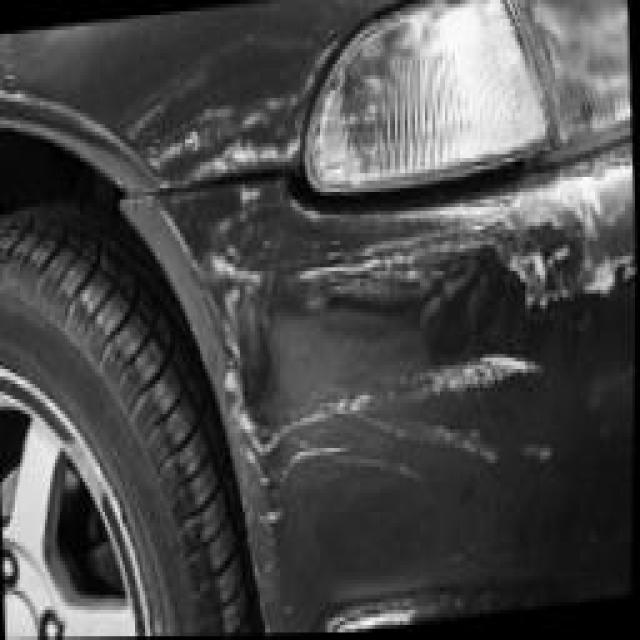Bumper: (152, 162, 637, 588)
